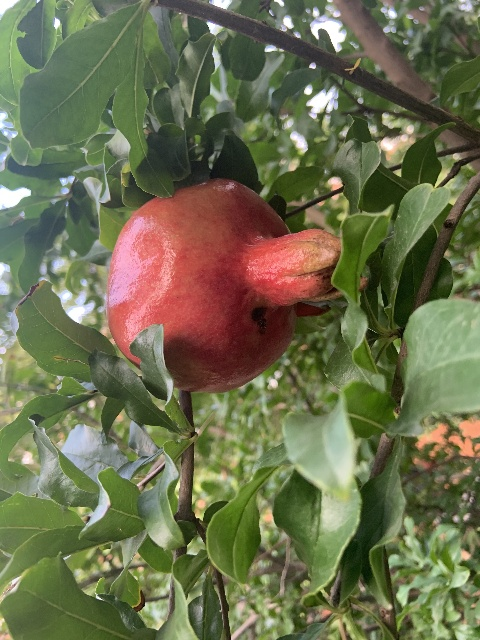ripe: (106, 178, 341, 392)
